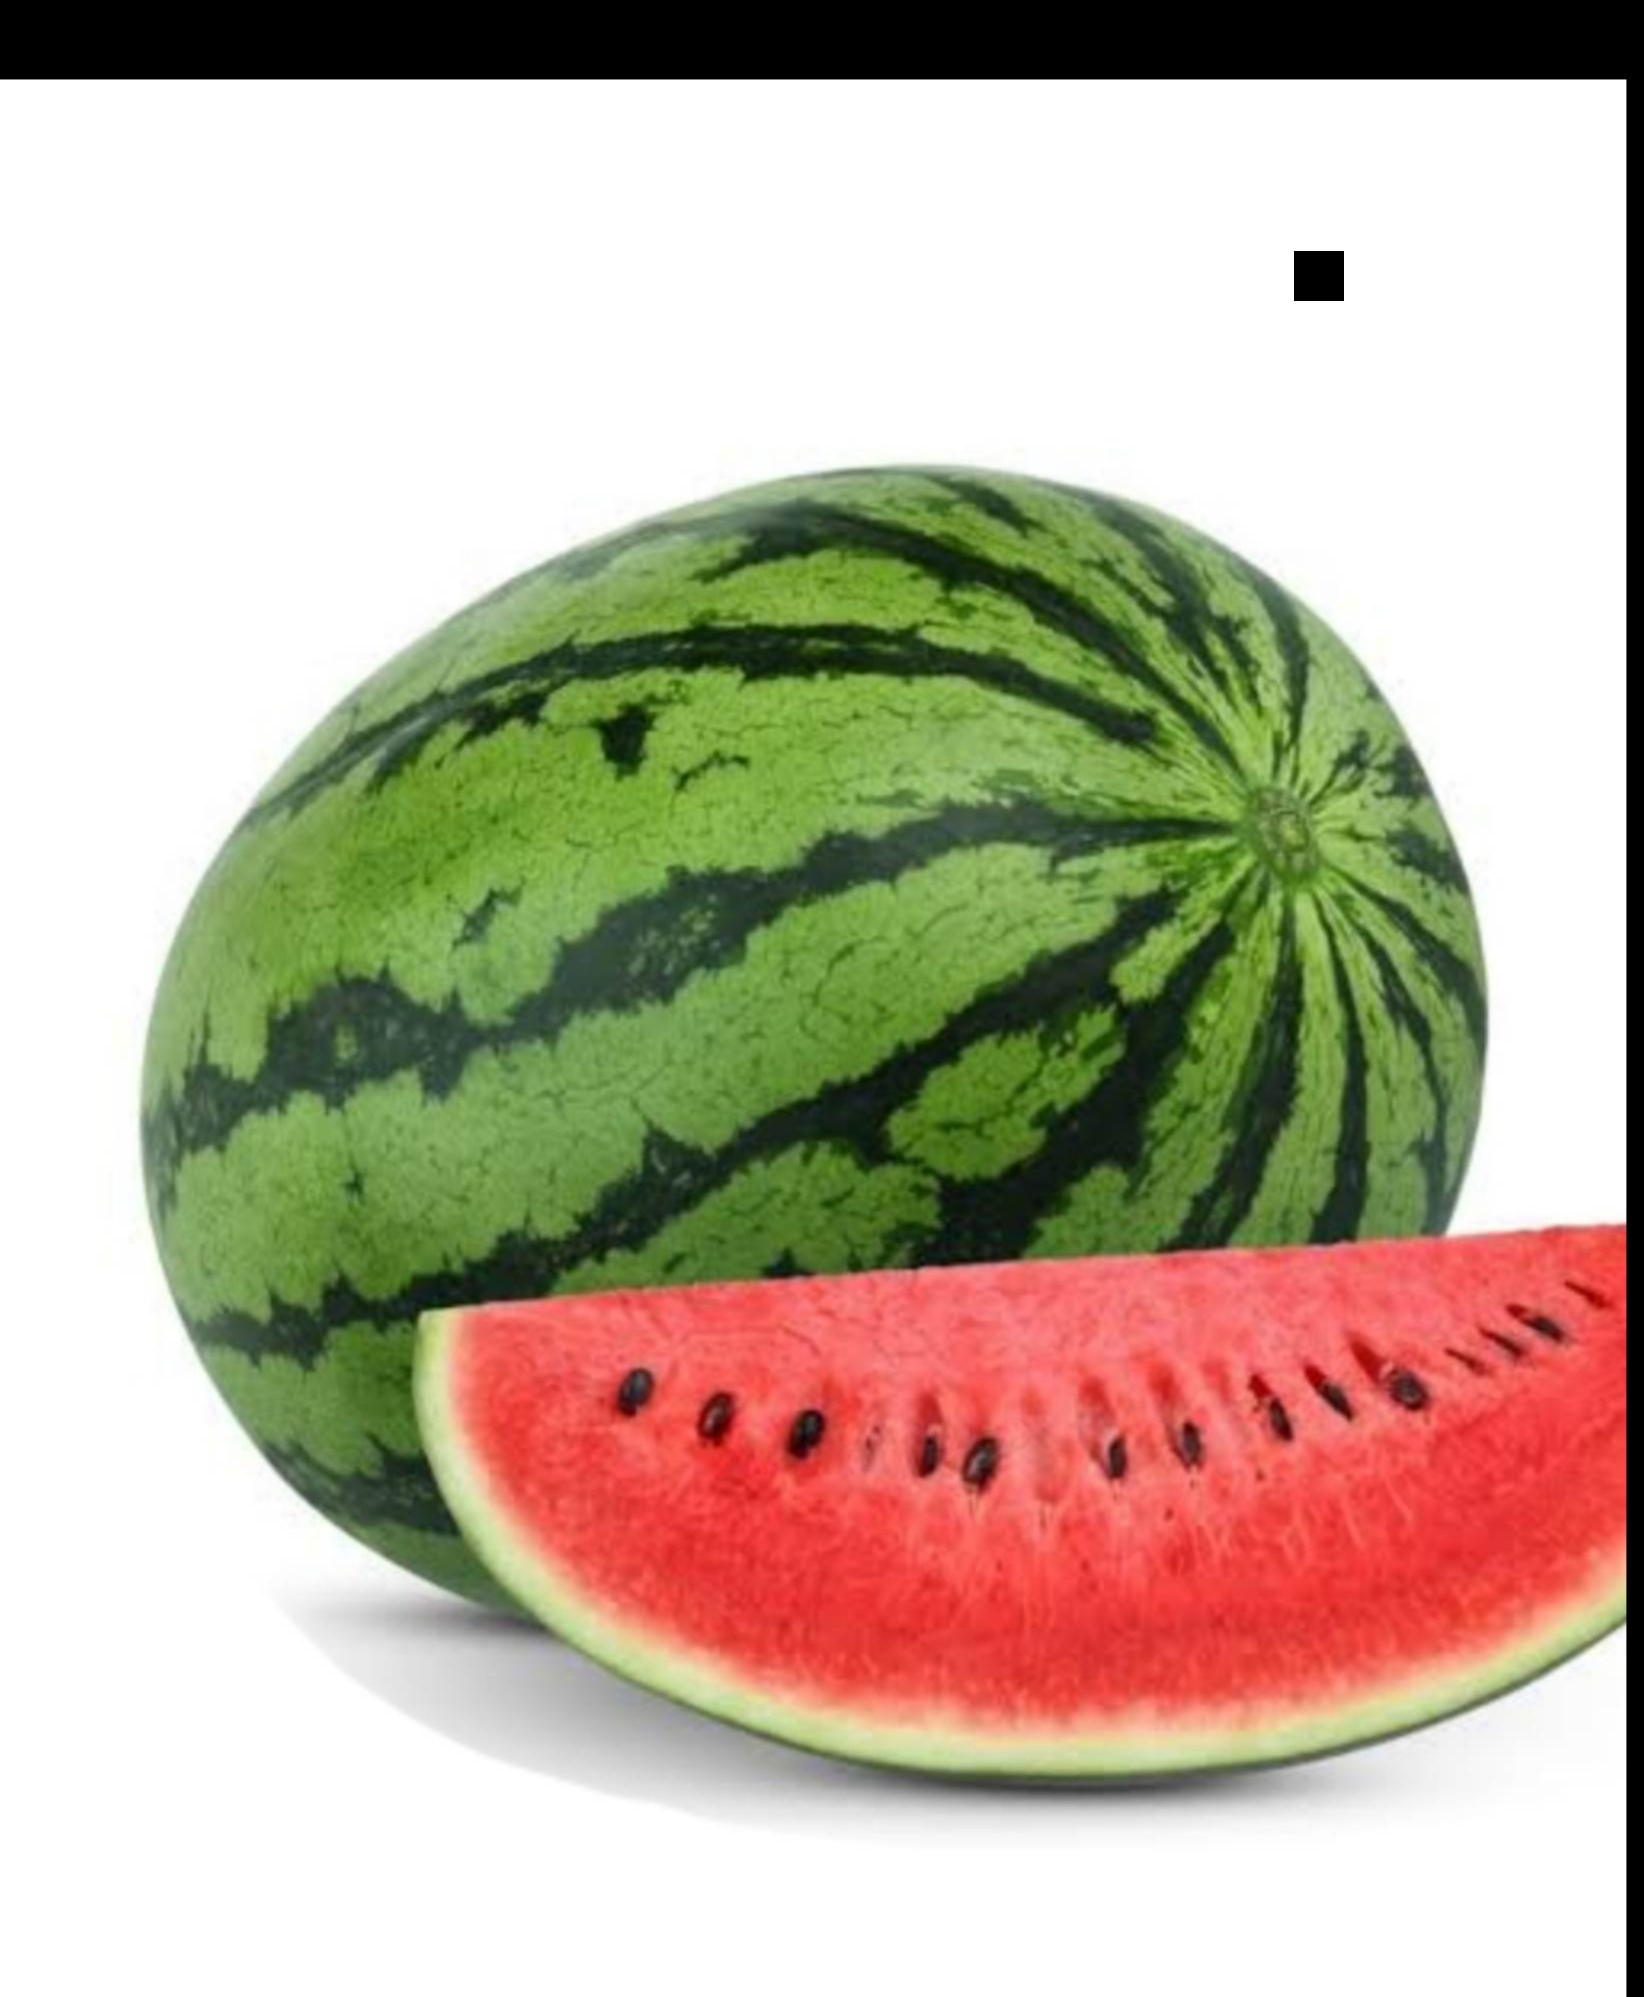watermelon: (91, 466, 1584, 1657)
